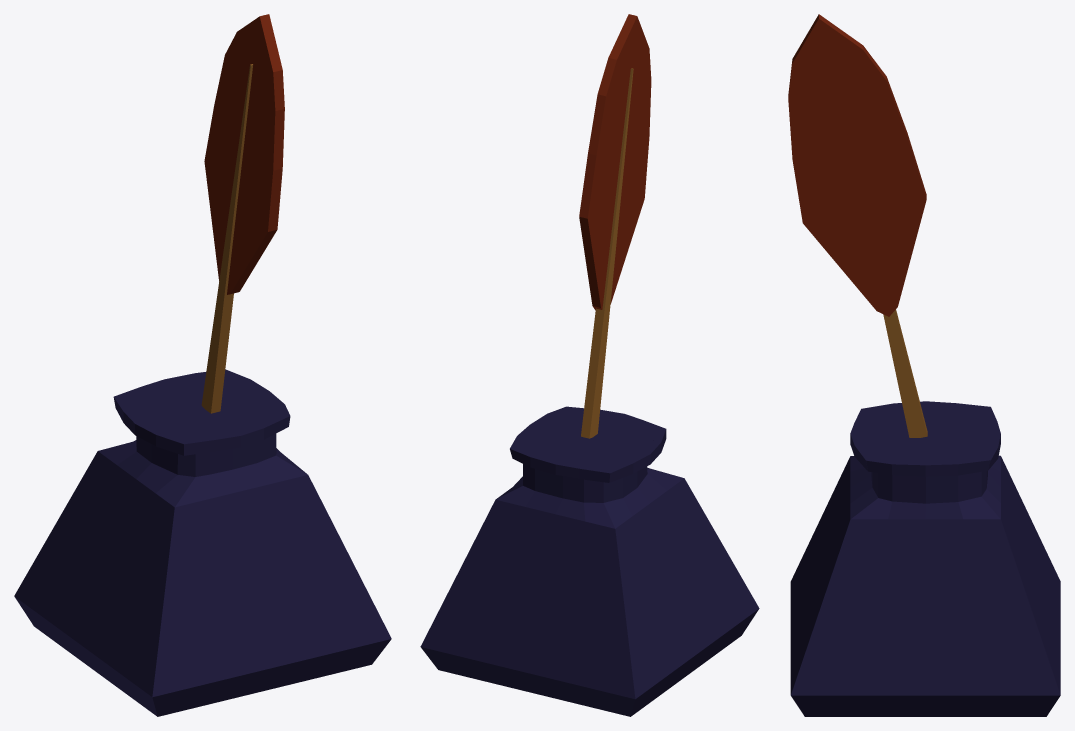
The model's file is Tinta botella solid.fbx.
3 renders of one model, left to right at view 1: azimuth 30°, elevation 25°; view 2: azimuth 150°, elevation 25°; view 3: azimuth 270°, elevation 25°, orthographic. The views are drawn at different scales.
Parts seen in each view (by area): view 1: Cube.001, Plane.002, Plane.001; view 2: Cube.001, Plane.002, Plane.001; view 3: Cube.001, Plane.002, Plane.001.
Boxes of the visible parts, x1,y1,x2,y2 form: Cube.001: [14, 369, 391, 716]; Plane.002: [204, 14, 284, 294]; Plane.001: [201, 64, 252, 413]; Cube.001: [420, 406, 759, 716]; Plane.002: [579, 14, 651, 310]; Plane.001: [581, 68, 633, 438]; Cube.001: [790, 401, 1060, 716]; Plane.002: [788, 14, 926, 316]; Plane.001: [883, 309, 927, 437].
Bounding box in the file's own units: 200 × 534 × 202.
